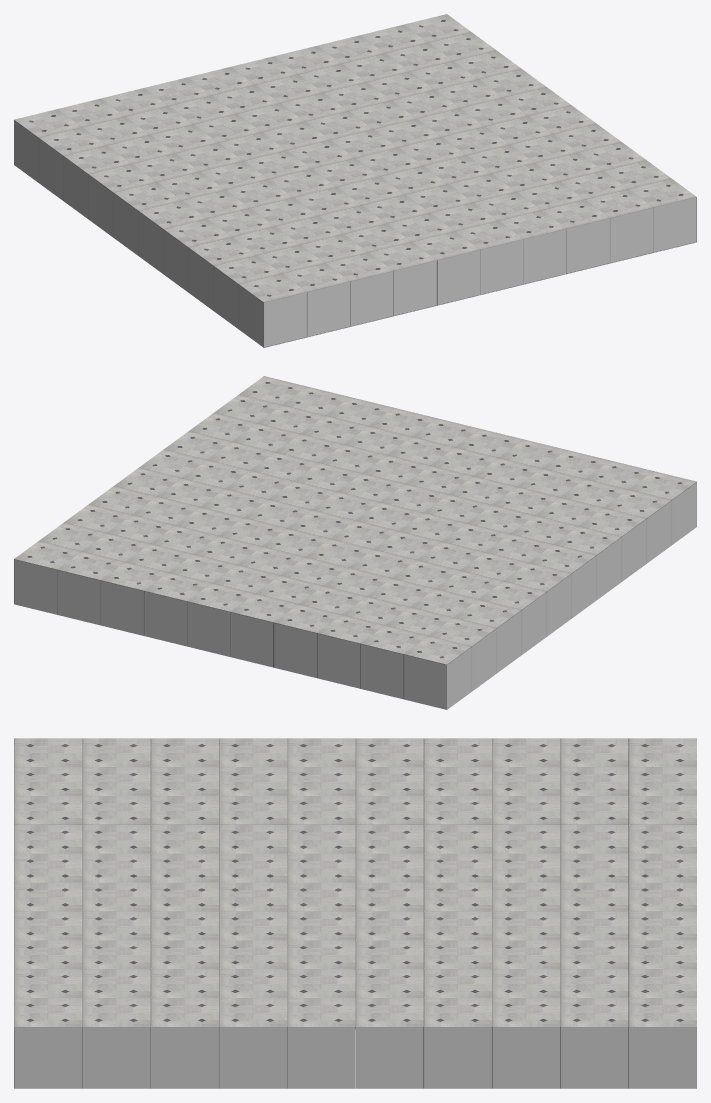
Rendered from tile_marble_diamond.dae.
3 views of the same model, one above another, from view 1: azimuth 30°, elevation 25°; view 2: azimuth 150°, elevation 25°; view 3: azimuth 270°, elevation 25° (orthographic). The views are drawn at different scales.
Parts seen in each view (by area): view 1: Cube; view 2: Cube; view 3: Cube.
Boxes of the visible parts, bbox=[...] form: Cube: bbox=[14, 14, 696, 347]; Cube: bbox=[14, 376, 696, 709]; Cube: bbox=[14, 738, 696, 1088].
Size of the model in its own units: 20 by 20 by 2.
1 material, 1 textured.
